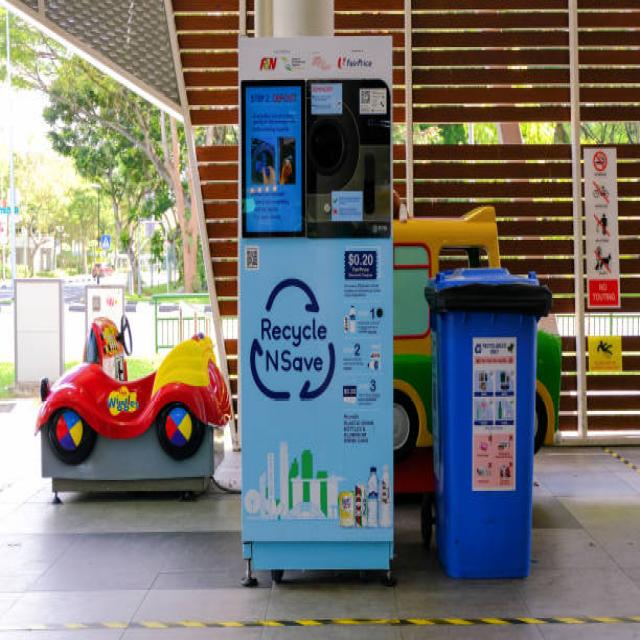bin_empty: (446, 248, 546, 586)
